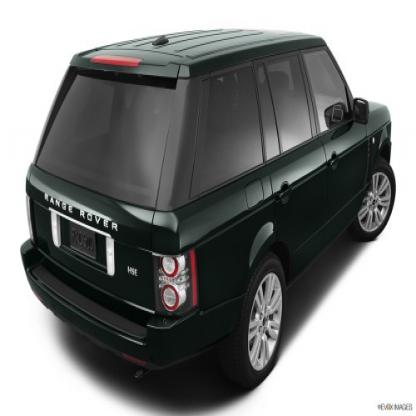Vehicle: (22, 32, 396, 388)
